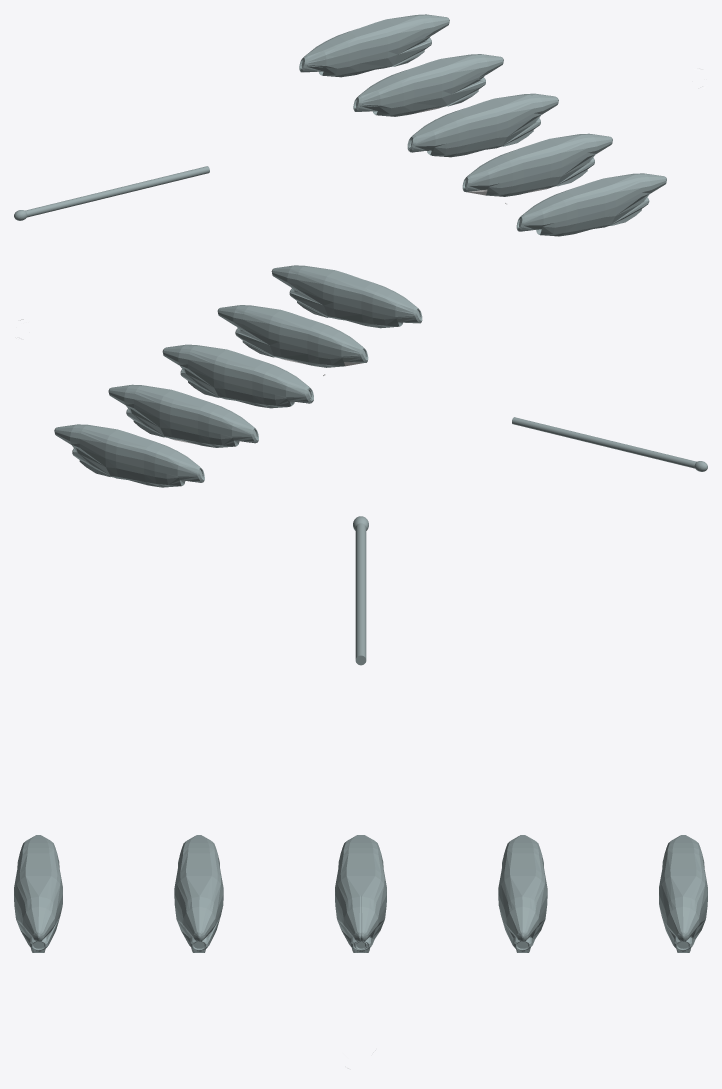
3 views of the same model, one above another, from view 1: azimuth 30°, elevation 25°; view 2: azimuth 150°, elevation 25°; view 3: azimuth 270°, elevation 25° (orthographic). The views are drawn at different scales.
Visible parts, largest first — view 1: obj4 (×3), cylinder, obj5 (×2); view 2: obj4 (×3), cylinder, obj5 (×2); view 3: obj4 (×3), obj5 (×3), cylinder.
Boxes of the visible parts, box(x1,y1,x2,y2) form: obj4 (×3): box(299, 14, 653, 236); cylinder: box(25, 166, 209, 217); obj5 (×2): box(431, 15, 612, 152); obj4 (×3): box(67, 265, 422, 487); cylinder: box(512, 417, 696, 468); obj5 (×2): box(108, 265, 291, 403); obj4 (×3): box(14, 835, 707, 952); obj5 (×3): box(24, 910, 697, 941); cylinder: box(355, 523, 366, 665).
Size of the model in its own units: 22.07 by 1.81 by 12.97.
Materials: 8 (7 with a texture image).
